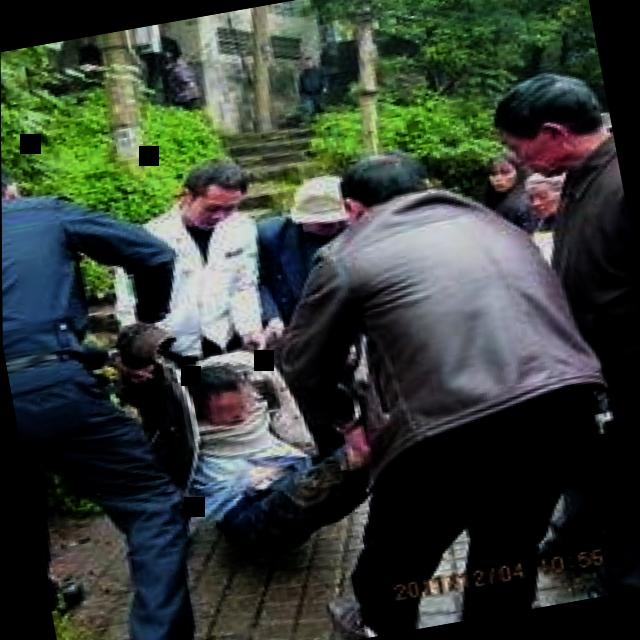Fall-Detected: (136, 310, 383, 572)
